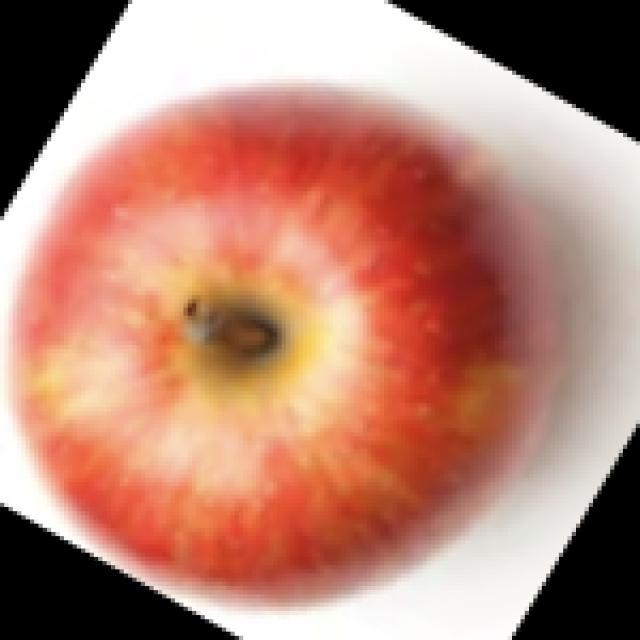Fresh Apple: (29, 77, 528, 580)
